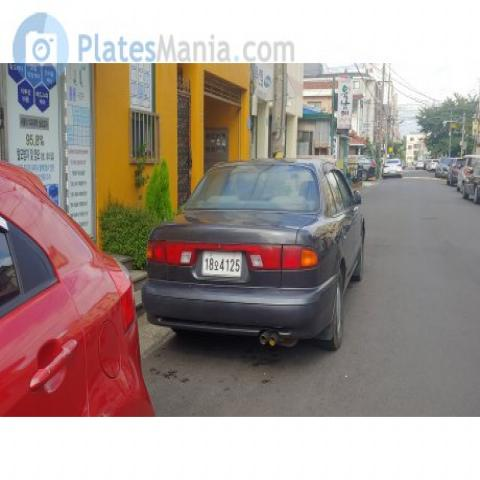LP: (193, 247, 255, 290)
